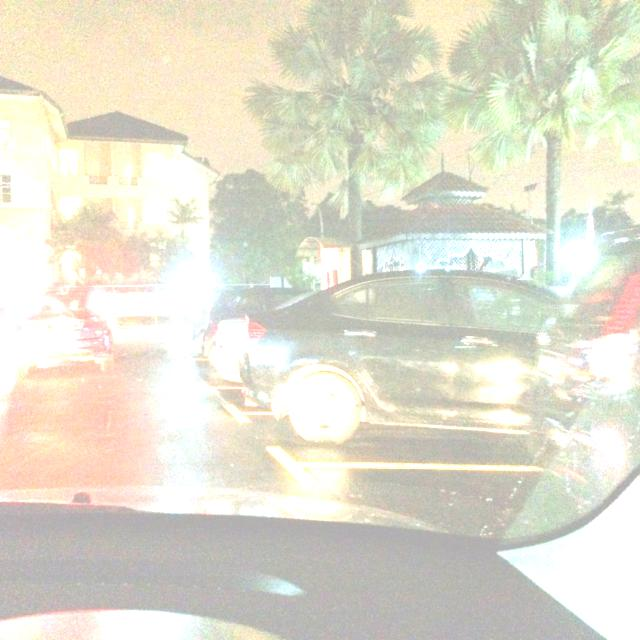Car: (238, 273, 577, 446)
